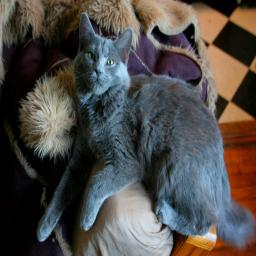catnose: (96, 68, 102, 78)
